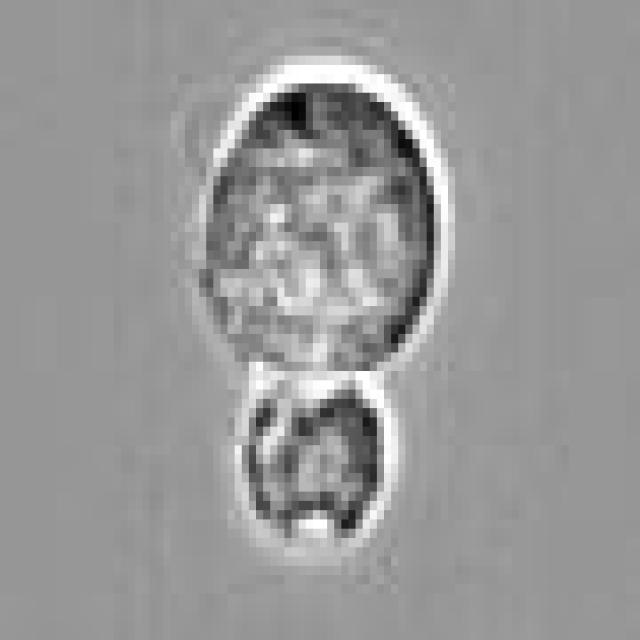Cancer Cell: (206, 74, 434, 371)
WBC: (242, 371, 391, 538)
